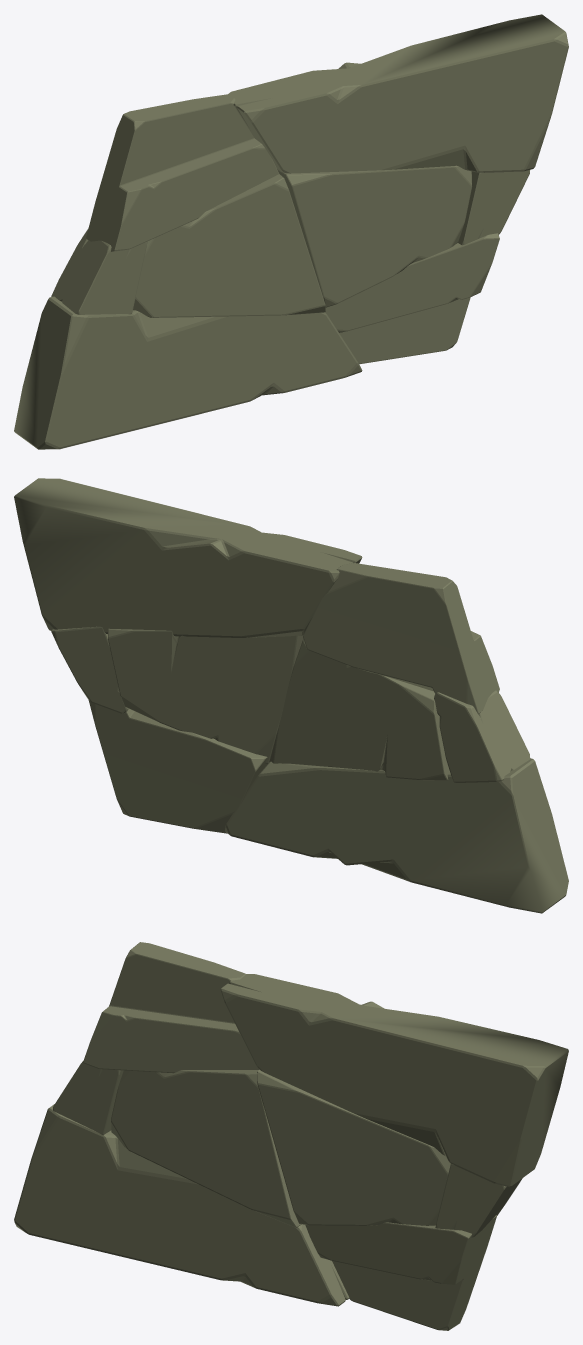
File: CaveWall.fbx
The picture shows the model from 3 angles, top to bottom: view 1: azimuth 30°, elevation 25°; view 2: azimuth 150°, elevation 25°; view 3: azimuth 330°, elevation 25°; orthographic projection.
Parts seen in each view (by area): view 1: Cube.019; view 2: Cube.019; view 3: Cube.019.
Boxes of the visible parts, box(x1,y1,x2,y2) form: Cube.019: box(14, 14, 568, 449); Cube.019: box(14, 478, 568, 913); Cube.019: box(14, 942, 568, 1330).
Size of the model in its own units: 663 by 364 by 71.53.
